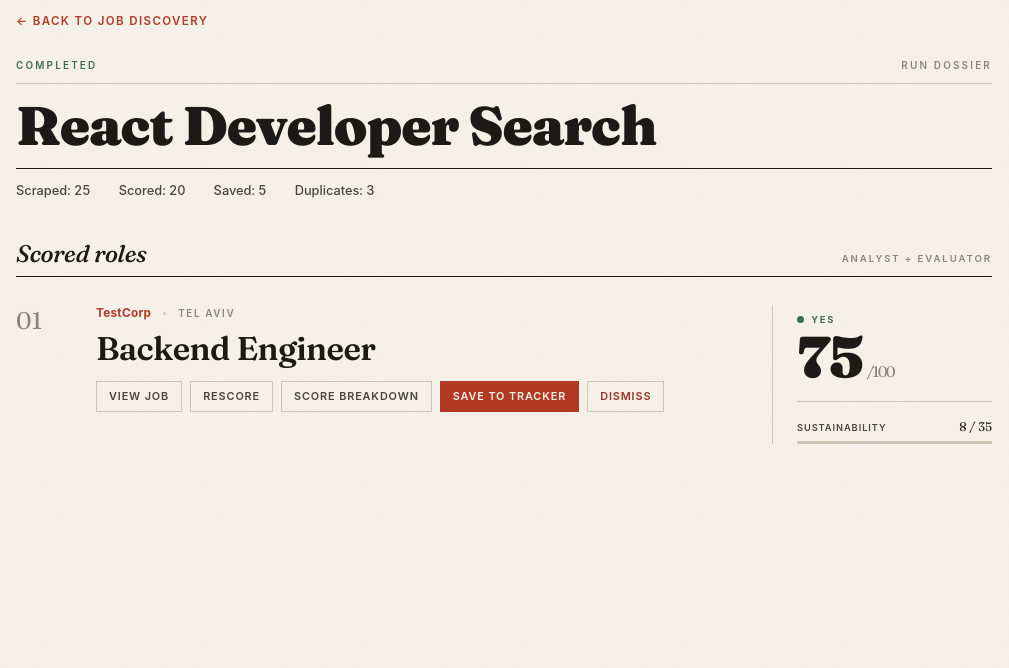
Test: RunDetailPage - Signals (green/red flags) in breakdown panel › shows the enforced review adjustment arithmetic on adjusted components
Step 1. Click the button "Score Breakdown" → coordinates (356, 396), box [281,381,432,412]
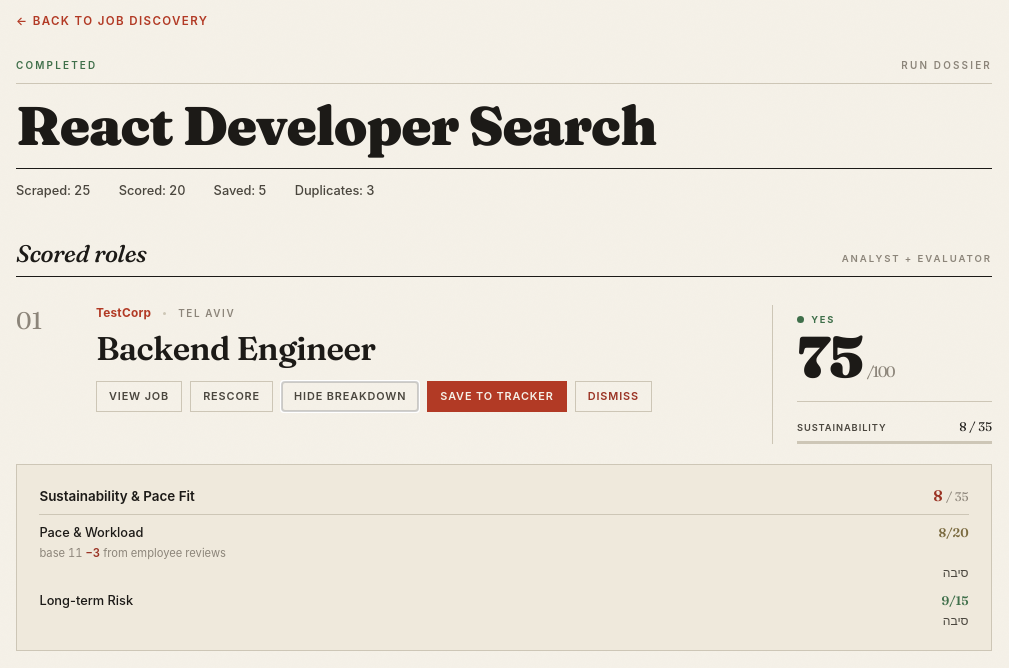
Expected: the text "−3" is shown, [86,546,100,560]
Expected: the text "base 11 −3 from employee reviews" is shown once, [39,546,226,560]
